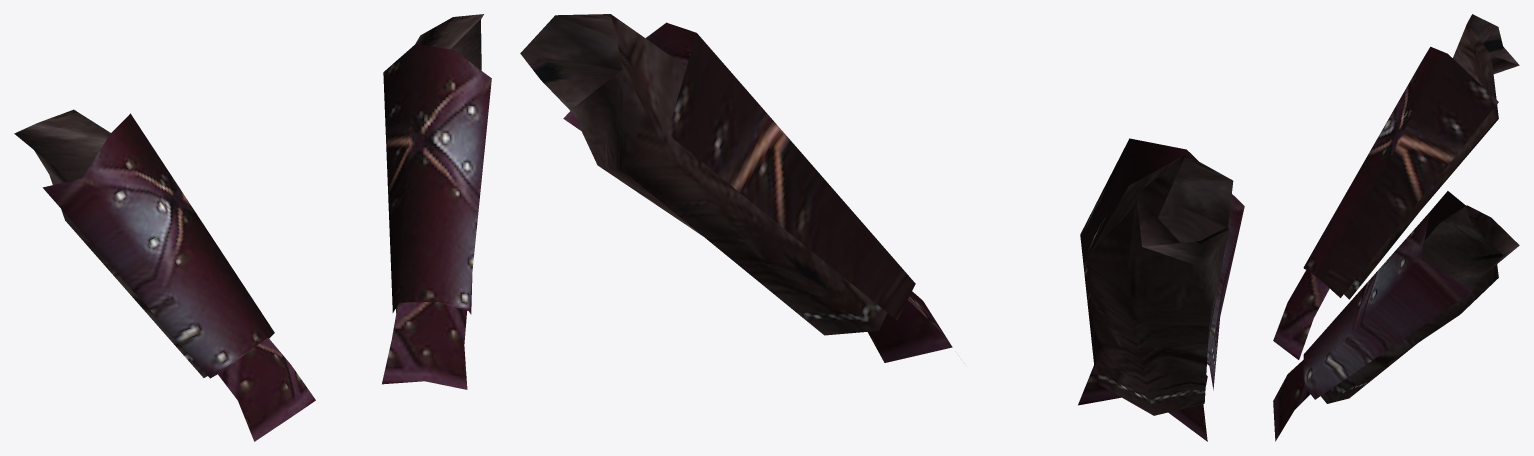
File: Leather Armor Gloves.fbx
3 views of the same model, side by side, from view 1: azimuth 30°, elevation 25°; view 2: azimuth 150°, elevation 25°; view 3: azimuth 270°, elevation 25° (orthographic). The views are drawn at different scales.
Visible parts, largest first — view 1: Leather Gloves; view 2: Leather Gloves; view 3: Leather Gloves.
Part boxes in pixels (x1,y1,x2,y2): Leather Gloves: (14,14,491,441); Leather Gloves: (520,14,1244,441); Leather Gloves: (1273,14,1519,441).
Bounding box in the file's own units: 0.4994 × 0.2876 × 0.2324.
